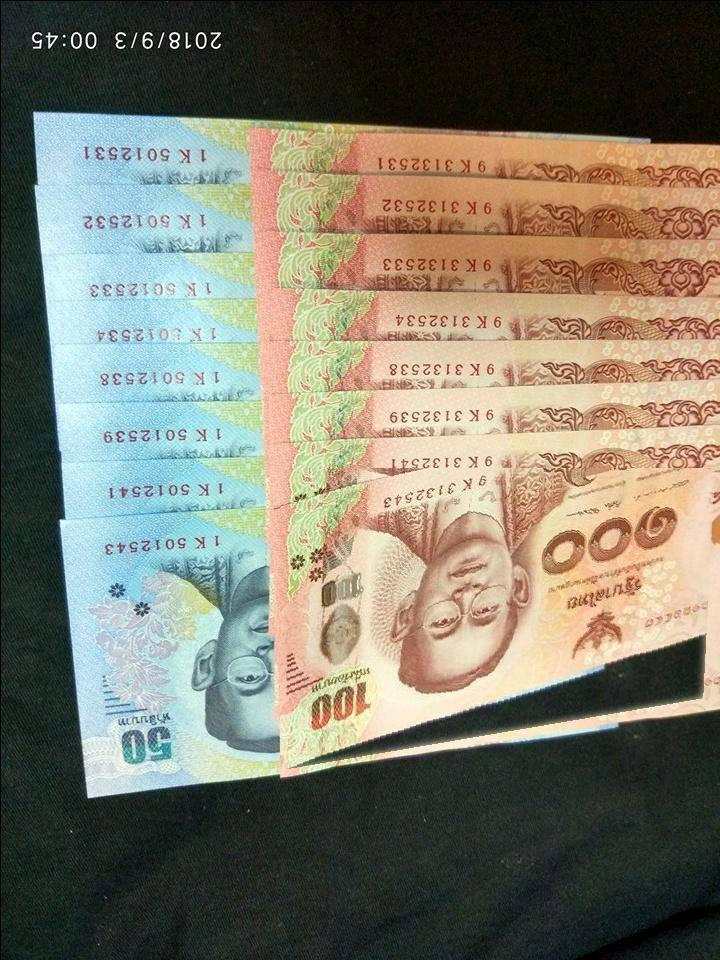100BahtTai: (281, 469, 720, 774)
